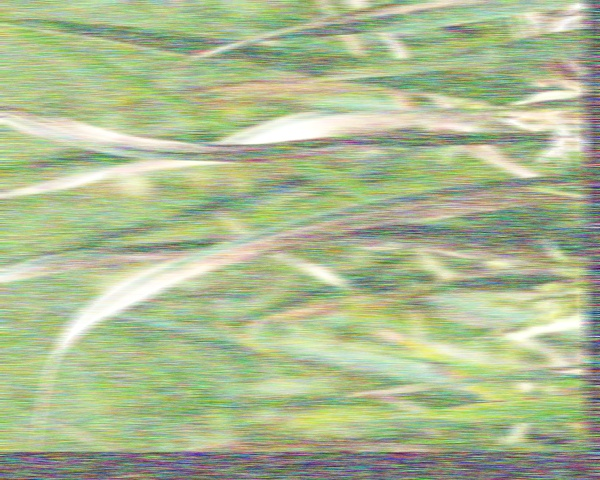Leaf_Blast: (146, 182, 534, 297), (0, 101, 220, 179), (300, 0, 564, 28)
